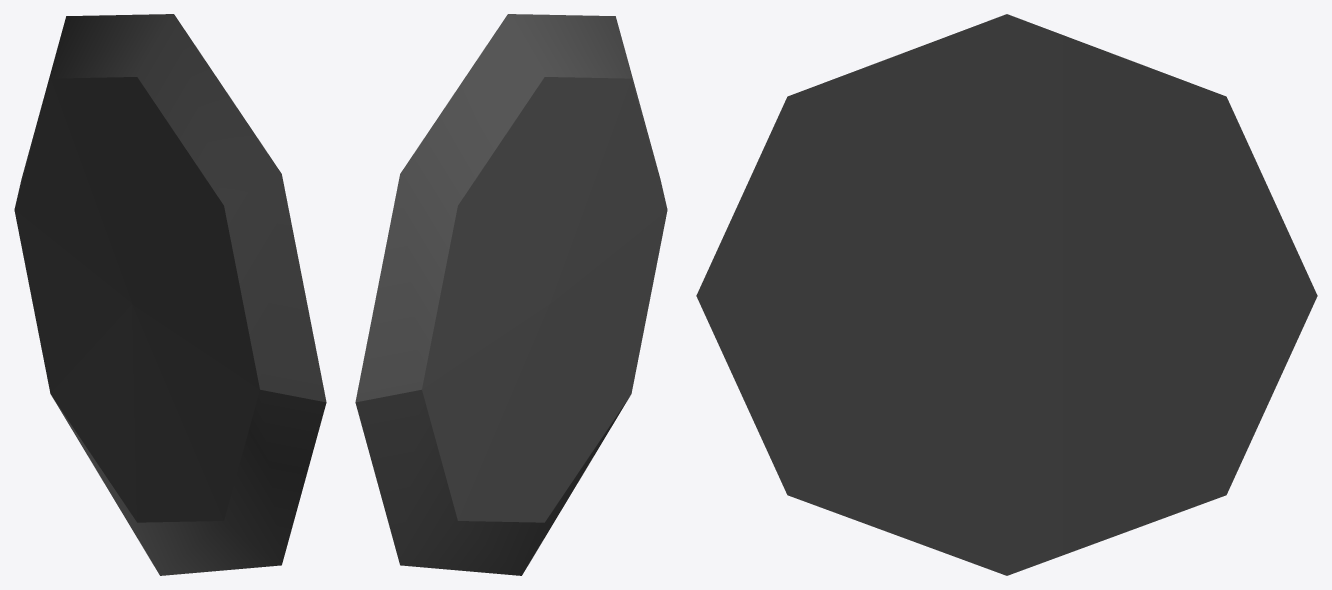
The model's file is Nez_6_2.FBX.
3 renders of one model, left to right at view 1: azimuth 30°, elevation 25°; view 2: azimuth 150°, elevation 25°; view 3: azimuth 270°, elevation 25°, orthographic.
Parts seen in each view (by area): view 1: Object010; view 2: Object010; view 3: Object010.
Boxes of the visible parts, <box> form: Object010: <box>14,14,326,575</box>; Object010: <box>355,14,667,575</box>; Object010: <box>696,14,1317,575</box>.
Size of the model in its own units: 1.59 by 20.3 by 20.09.
